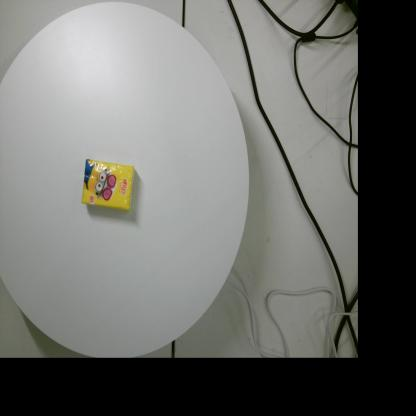Tissue: (81, 159, 135, 211)
